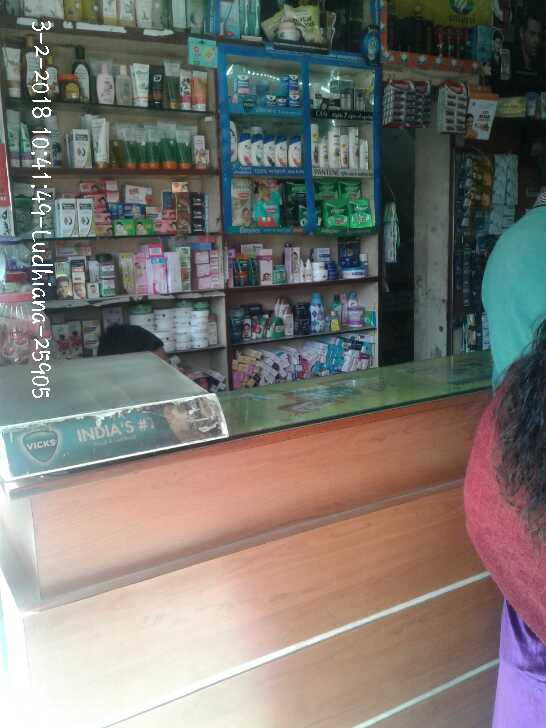vicks: (230, 61, 304, 107)
